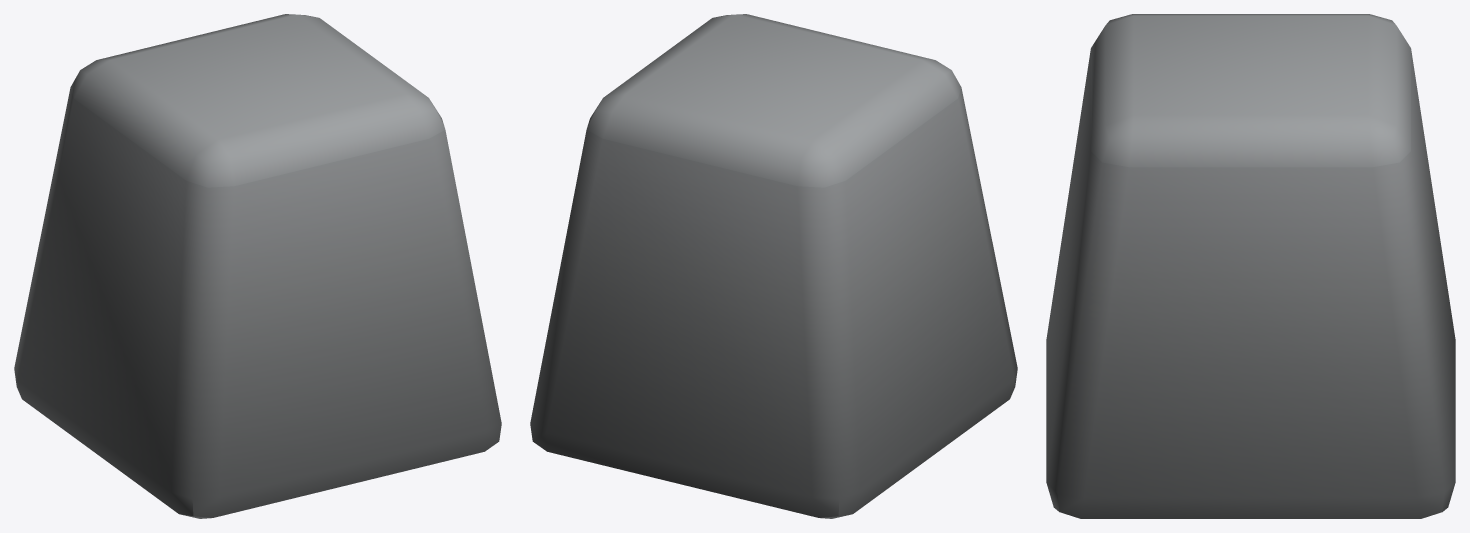
The model's file is Rock_2_C.glb.
3 renders of one model, left to right at view 1: azimuth 30°, elevation 25°; view 2: azimuth 150°, elevation 25°; view 3: azimuth 270°, elevation 25°, orthographic. The views are drawn at different scales.
Parts seen in each view (by area): view 1: Rock_2_C_Color1; view 2: Rock_2_C_Color1; view 3: Rock_2_C_Color1.
Part boxes in pixels (bbox=[...]): Rock_2_C_Color1: bbox=[14, 14, 501, 518]; Rock_2_C_Color1: bbox=[530, 14, 1017, 518]; Rock_2_C_Color1: bbox=[1046, 14, 1455, 518].
Bounding box in the file's own units: 1.3 × 1.33 × 1.3.
Materials: 1 (1 with a texture image).
